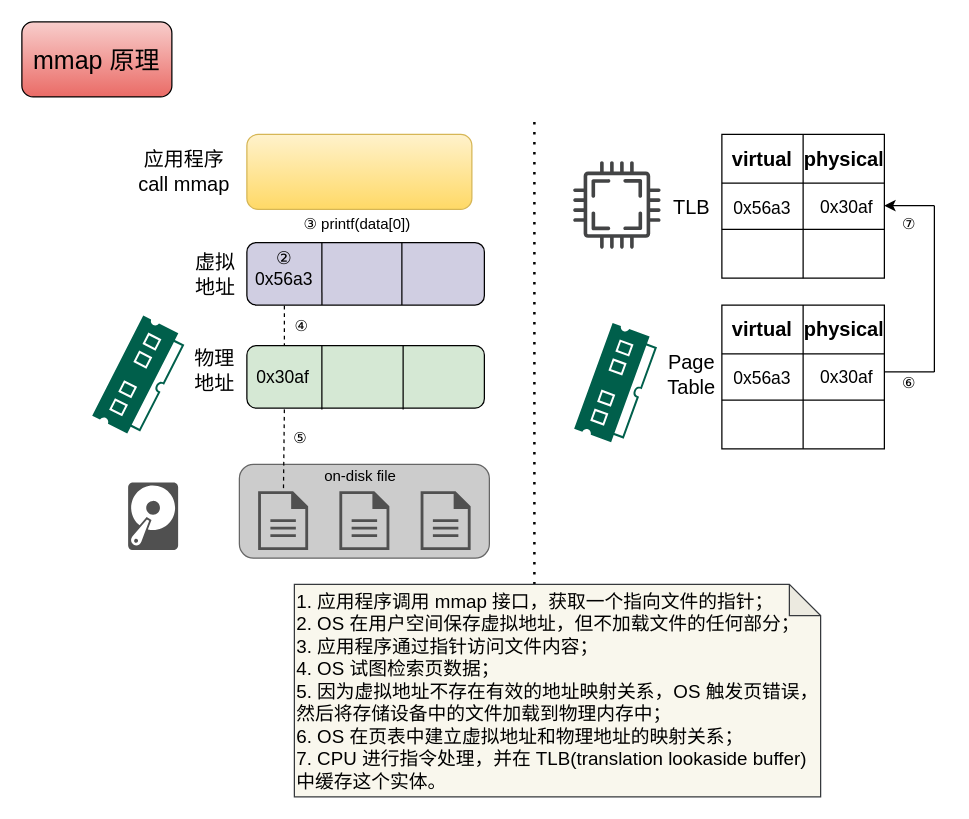
Image size: 969x819. Some labels were removed from this diagram. The shapes that lost their labels are listed below. From the top down, each one's centre as x and y in pixels, then its label:
point 359,171: ①data = mmap("cidr.db") 返回一个指向文件的指针
point 616,204: CPU
